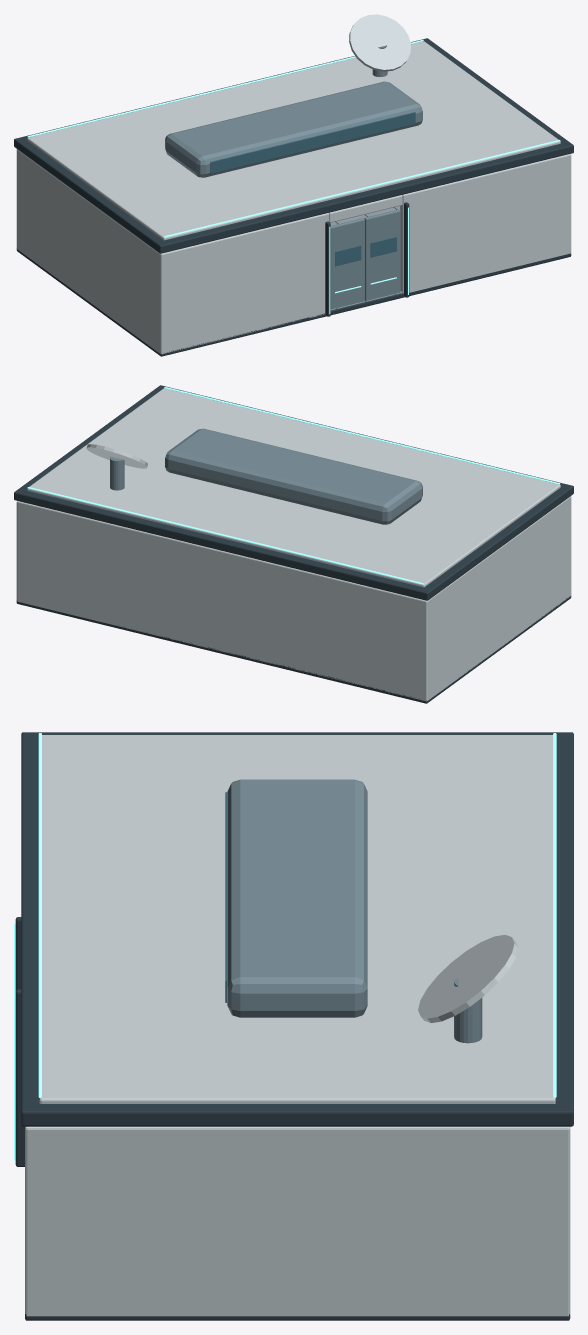
The model's file is review-shell.glb.
3 renders of one model, top to bottom at view 1: azimuth 30°, elevation 25°; view 2: azimuth 150°, elevation 25°; view 3: azimuth 270°, elevation 25°, orthographic. The views are drawn at different scales.
Parts seen in each view (by area): view 1: Cutaway_Ivory, Roof_Ivory, Roof_Steel, Roof_Dark, Roof_Glass, DoorRight_Steel, DoorLeft_Steel, Floor_Dark, Roof_Accent, Cutaway_Dark; view 2: Back_Ivory, Roof_Ivory, Cutaway_Ivory, Roof_Steel, Roof_Dark, Roof_Accent, Floor_Dark; view 3: Roof_Ivory, Cutaway_Ivory, Roof_Steel, Roof_Dark, Roof_Accent, Floor_Dark, Cutaway_Dark.
Boxes of the visible parts, box(x1,y1,x2,y2) form: Cutaway_Ivory: box(16, 149, 571, 354); Roof_Ivory: box(27, 14, 560, 240); Roof_Steel: box(165, 45, 422, 177); Roof_Dark: box(14, 38, 573, 253); Roof_Glass: box(210, 112, 415, 173); DoorRight_Steel: box(364, 209, 400, 300); DoorLeft_Steel: box(330, 218, 364, 309); Floor_Dark: box(16, 208, 571, 356); Roof_Accent: box(27, 39, 560, 237); Cutaway_Dark: box(325, 202, 409, 316); Back_Ivory: box(17, 501, 429, 701); Roof_Ivory: box(27, 388, 560, 587); Cutaway_Ivory: box(16, 496, 571, 700); Roof_Steel: box(110, 428, 422, 524); Roof_Dark: box(14, 385, 573, 600); Roof_Accent: box(27, 387, 560, 584); Floor_Dark: box(16, 596, 571, 703); Roof_Ivory: box(39, 735, 555, 1103); Cutaway_Ivory: box(25, 1126, 570, 1316); Roof_Steel: box(227, 779, 482, 1043); Roof_Dark: box(21, 732, 573, 1126); Roof_Accent: box(38, 733, 556, 1097); Floor_Dark: box(25, 1314, 570, 1320); Cutaway_Dark: box(15, 917, 24, 1166).
Size of the model in its own units: 14.12 by 5.37 by 8.78.
